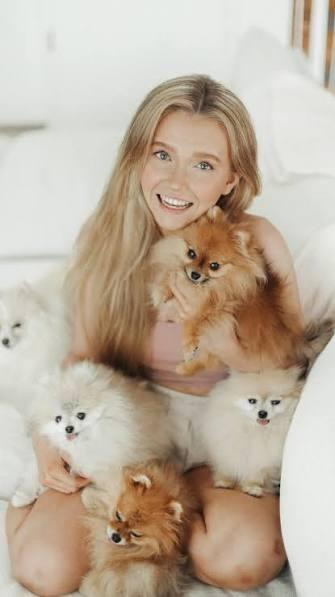adult_dog: (22, 356, 189, 553), (170, 316, 335, 499), (143, 206, 306, 377), (0, 258, 79, 509), (74, 459, 198, 597)
non-dog: (4, 73, 301, 589)
